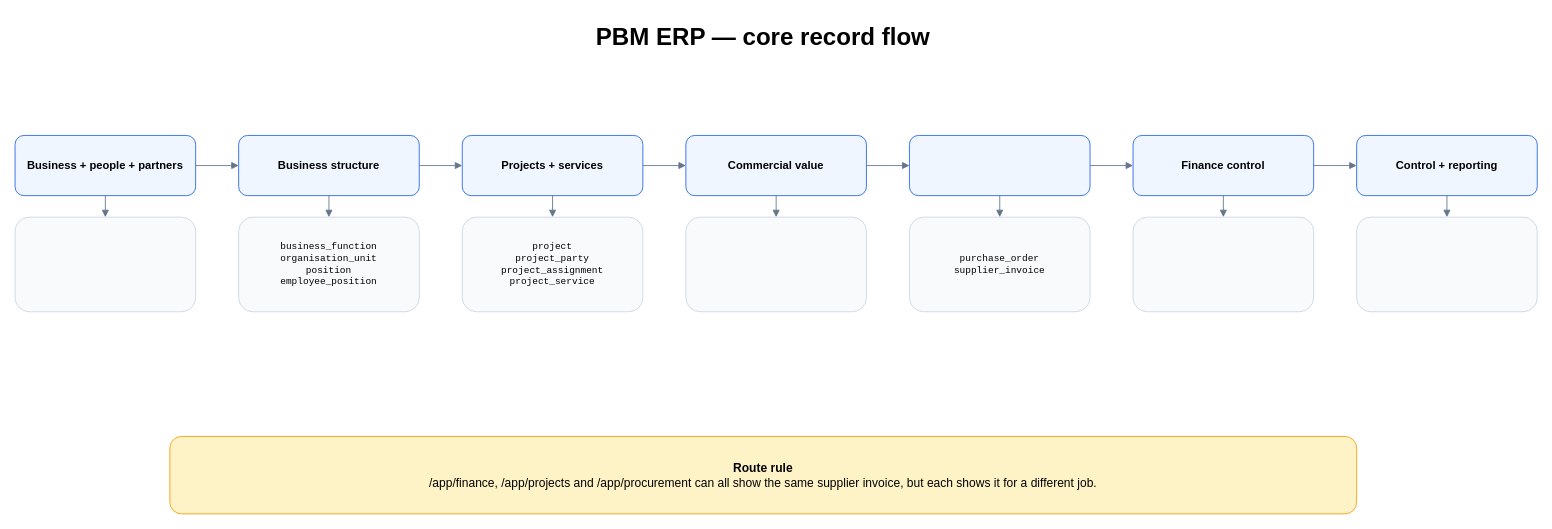
The diagram is 1552 pixels wide and 529 high, and some of its shapes have lost their labels. Each missing label, with the centre of its shape:
business_entity person_entity business_partner business_partner_role: the point at 105,264
project_quote project_quote_row: the point at 775,264
risk/control/evidence documents reporting views: the point at 1446,264
sales_invoice supplier_invoice: the point at 1223,264
Supplier cost: the point at 999,165
